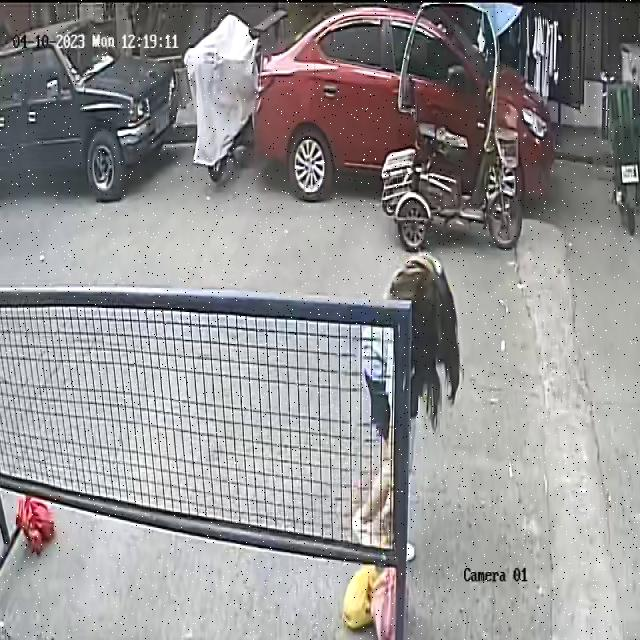human: (344, 252, 461, 640)
trash: (344, 539, 398, 640)
